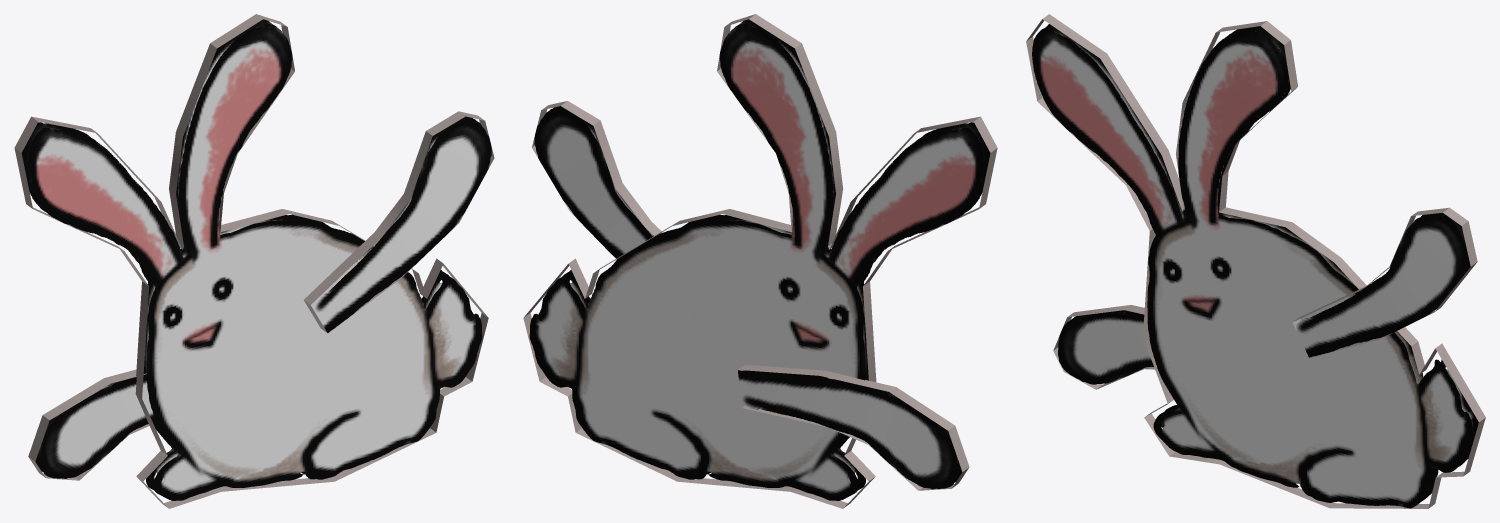
File: RabbitDigging_MDL.fbx
The picture shows the model from 3 angles, left to right: view 1: azimuth 30°, elevation 25°; view 2: azimuth 150°, elevation 25°; view 3: azimuth 330°, elevation 25°; orthographic projection. The views are drawn at different scales.
Parts seen in each view (by area): view 1: RabbitDigging_MDL, PawDiggingR_MDL, PawDiggingL_MDL; view 2: RabbitDigging_MDL, PawDiggingL_MDL, PawDiggingR_MDL; view 3: RabbitDigging_MDL, PawDiggingR_MDL, PawDiggingL_MDL.
Boxes of the visible parts, <box> form: RabbitDigging_MDL: <box>14,14,488,508</box>; PawDiggingR_MDL: <box>304,111,494,333</box>; PawDiggingL_MDL: <box>28,369,155,480</box>; RabbitDigging_MDL: <box>523,14,997,508</box>; PawDiggingL_MDL: <box>738,364,969,490</box>; PawDiggingR_MDL: <box>532,101,662,259</box>; RabbitDigging_MDL: <box>1026,14,1485,508</box>; PawDiggingR_MDL: <box>1292,207,1477,357</box>; PawDiggingL_MDL: <box>1053,305,1154,389</box>.
Bounding box in the file's own units: 0.7563 × 0.7425 × 0.0635.
